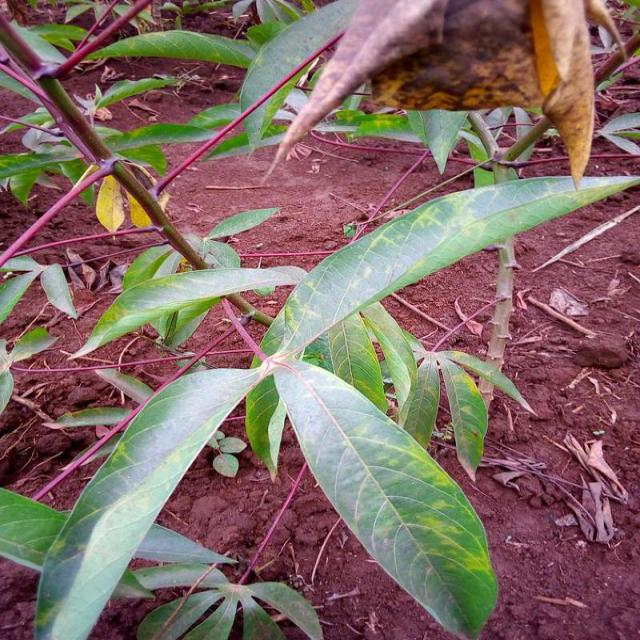cassava leaf: (270, 356, 500, 638), (34, 365, 266, 638)
